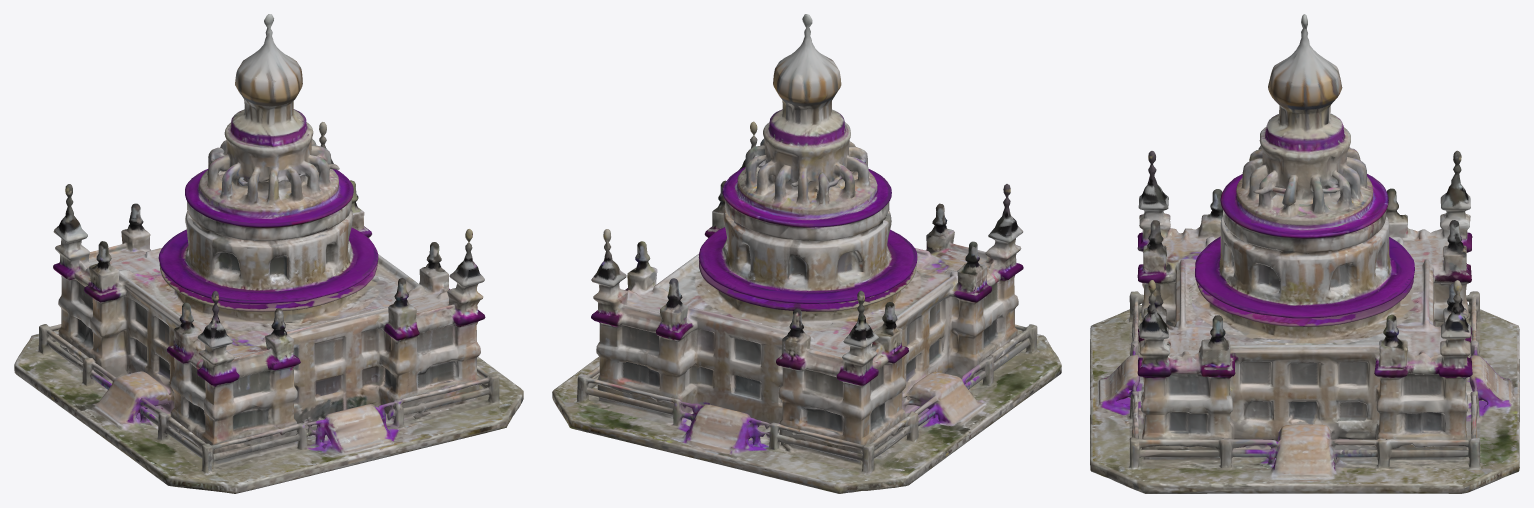
File: SovietTechConstruction.fbx
3 renders of one model, left to right at view 1: azimuth 30°, elevation 25°; view 2: azimuth 150°, elevation 25°; view 3: azimuth 270°, elevation 25°, orthographic. The views are drawn at different scales.
Parts seen in each view (by area): view 1: texture_pbr_v128.001; view 2: texture_pbr_v128.001; view 3: texture_pbr_v128.001.
Part boxes in pixels (left/top/right/bottom): texture_pbr_v128.001: left=14, top=14, right=523, bottom=493; texture_pbr_v128.001: left=552, top=14, right=1061, bottom=493; texture_pbr_v128.001: left=1090, top=14, right=1519, bottom=493.
Size of the model in its own units: 74.95 by 74.85 by 74.93.
Materials: 1 (1 with a texture image).
